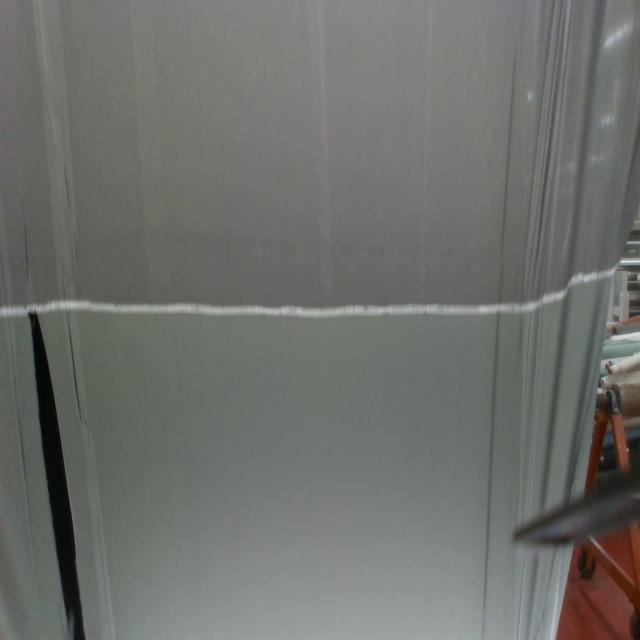crease: (479, 41, 524, 636), (66, 307, 118, 639), (32, 0, 82, 276), (0, 249, 38, 571)
hole: (28, 309, 88, 636)
